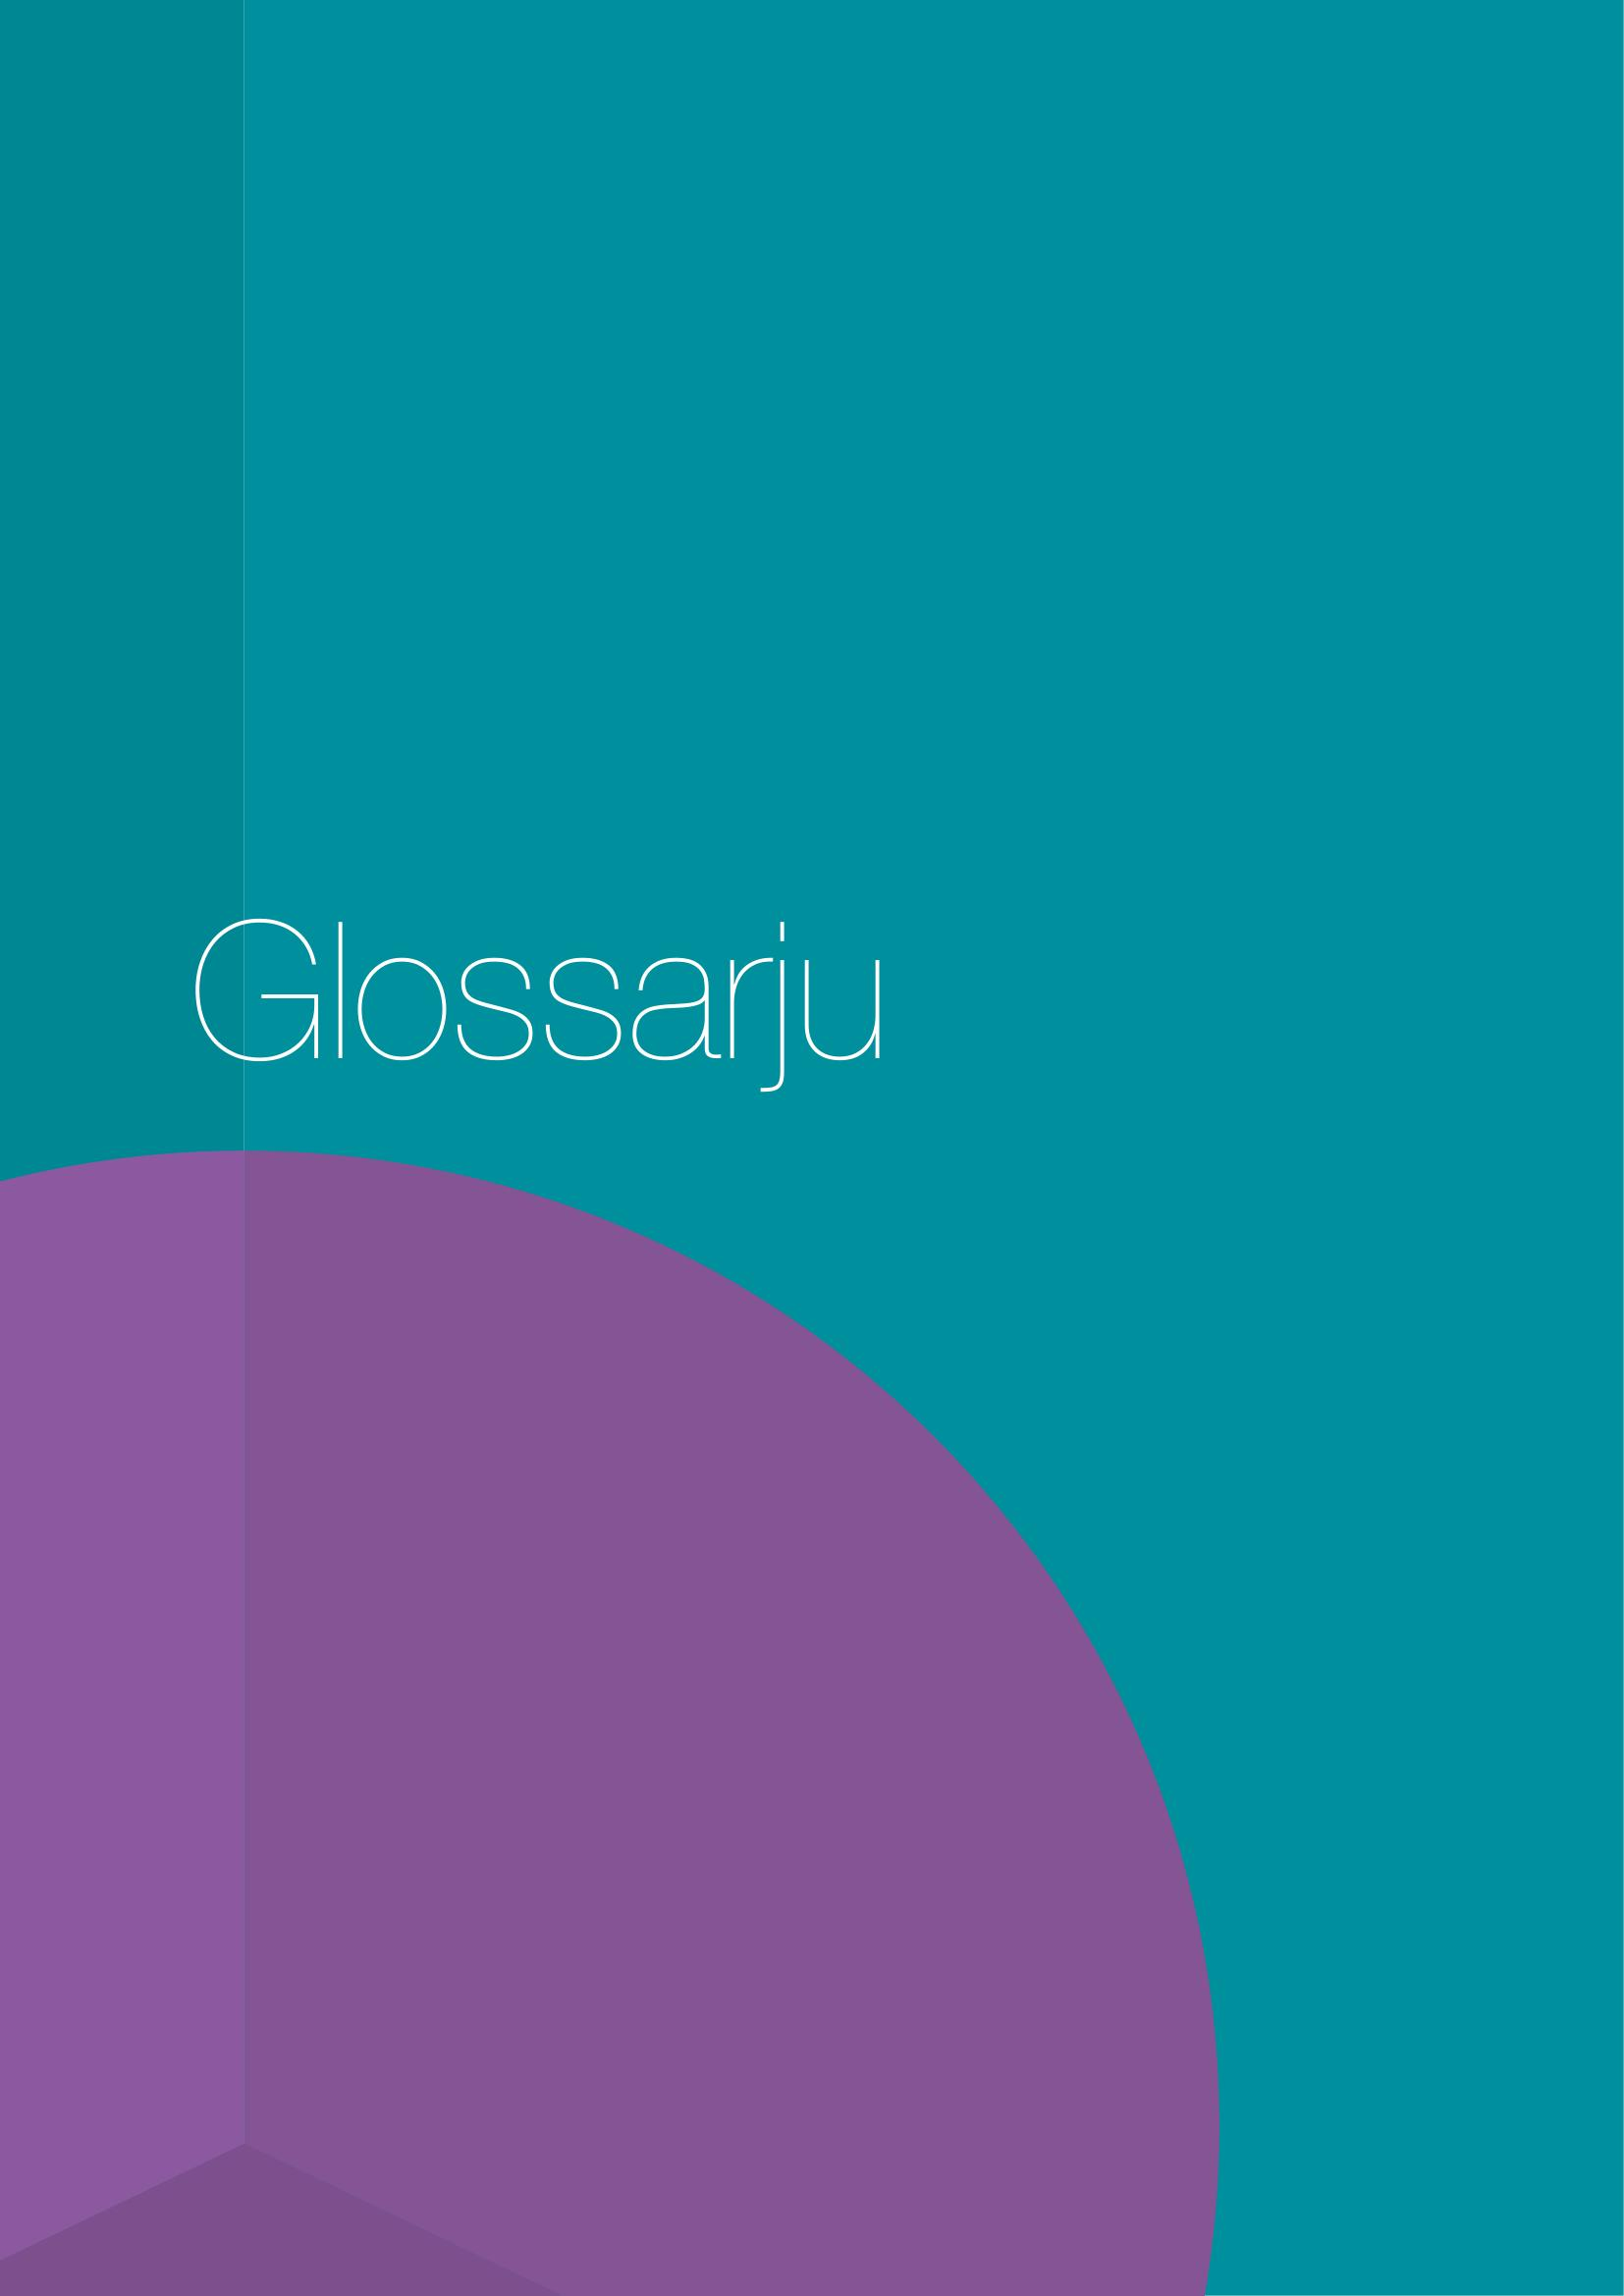text: (155, 891, 910, 1137)
